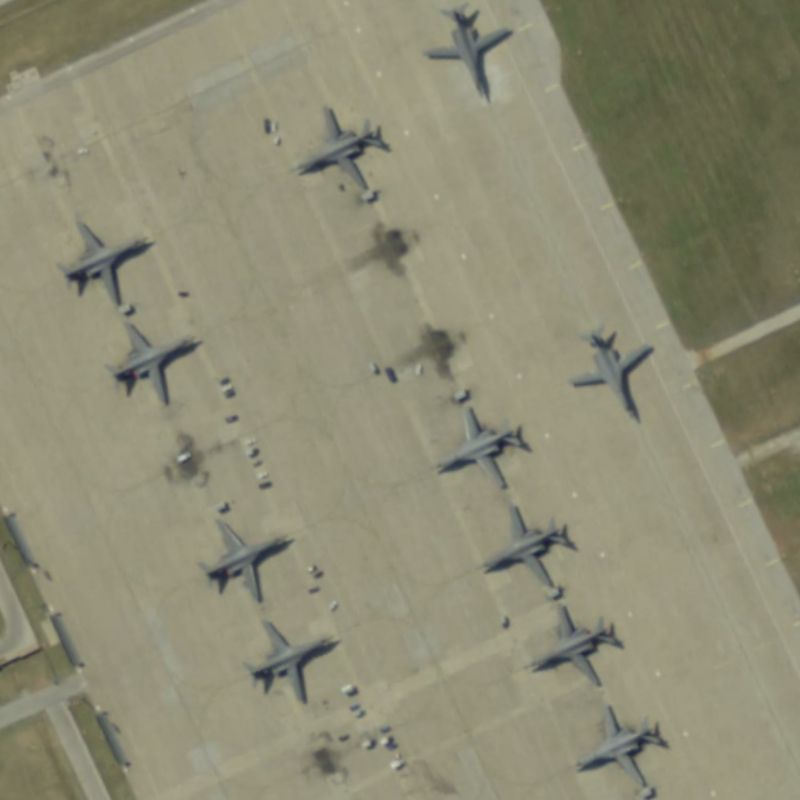A10: (417, 2, 529, 106), (287, 99, 400, 200), (474, 500, 589, 599), (54, 206, 155, 316), (565, 327, 671, 424), (430, 399, 538, 492), (567, 701, 670, 798), (197, 509, 297, 608), (523, 605, 634, 694), (242, 616, 342, 707), (110, 321, 207, 411)
